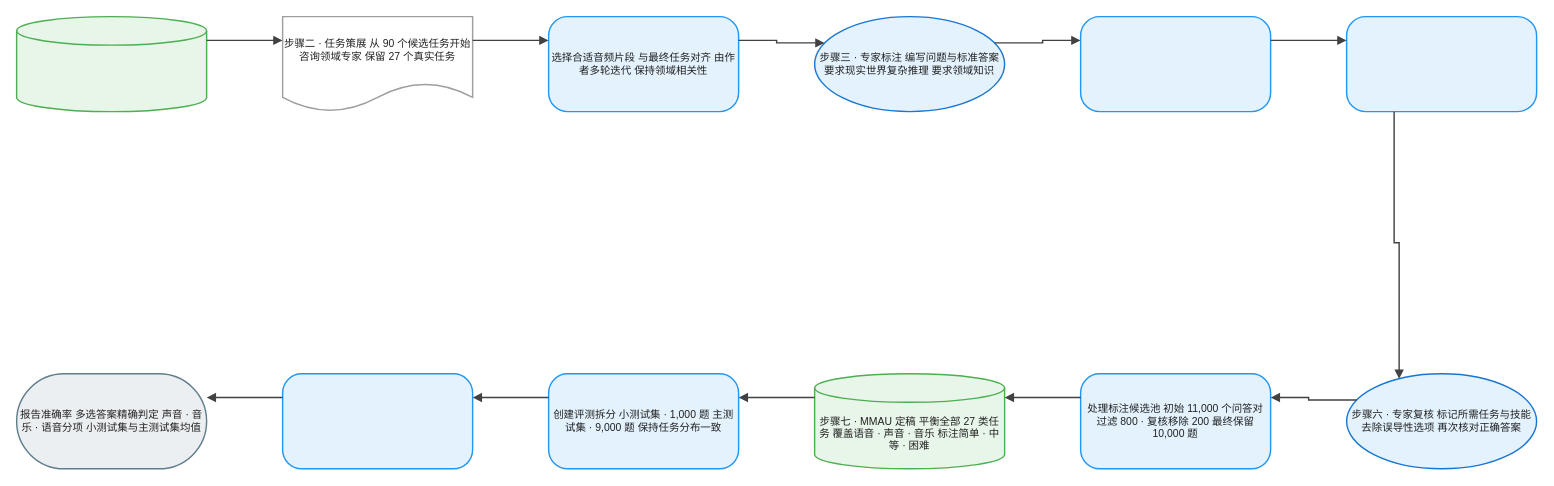
The diagram is 1554 pixels wide and 486 high, and some of its shapes have lost their labels. The centre of each missing label's shape, as x and y in pixels:
"步骤一 · 来源选择 汇集 13 个音频语料库 语音 · 声音 · 音乐 优先真实录音而非合成音频" goes at point 111,63.
"步骤五 · 选项增强 用 GPT-4 生成干扰项 基于音频和问题生成 提升多选题难度" goes at point 1441,63.
"步骤四 · 专家过滤 使用独立专家团队 去除歧义或过度复杂问答 去除低质量音频" goes at point 1175,63.
"评测音频语言模型 提供音频与多选题提示 选择一个答案选项 覆盖 27 项音频技能" goes at point 377,421.
